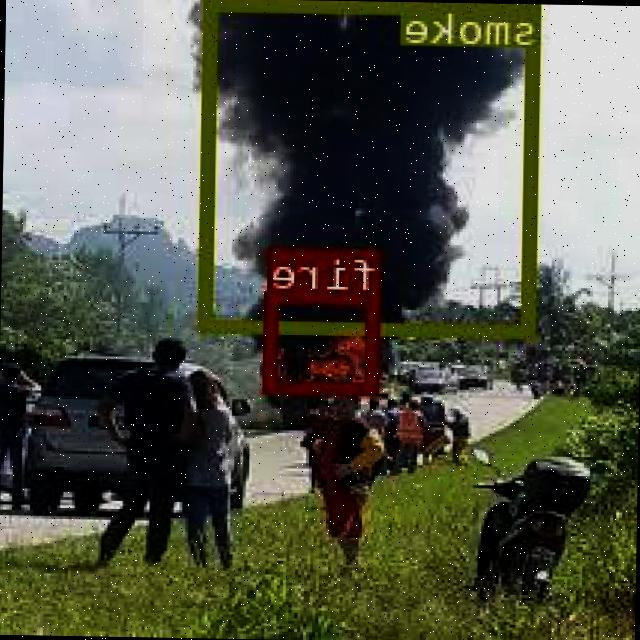fire: (266, 288, 382, 394)
smoke: (201, 0, 542, 334)
